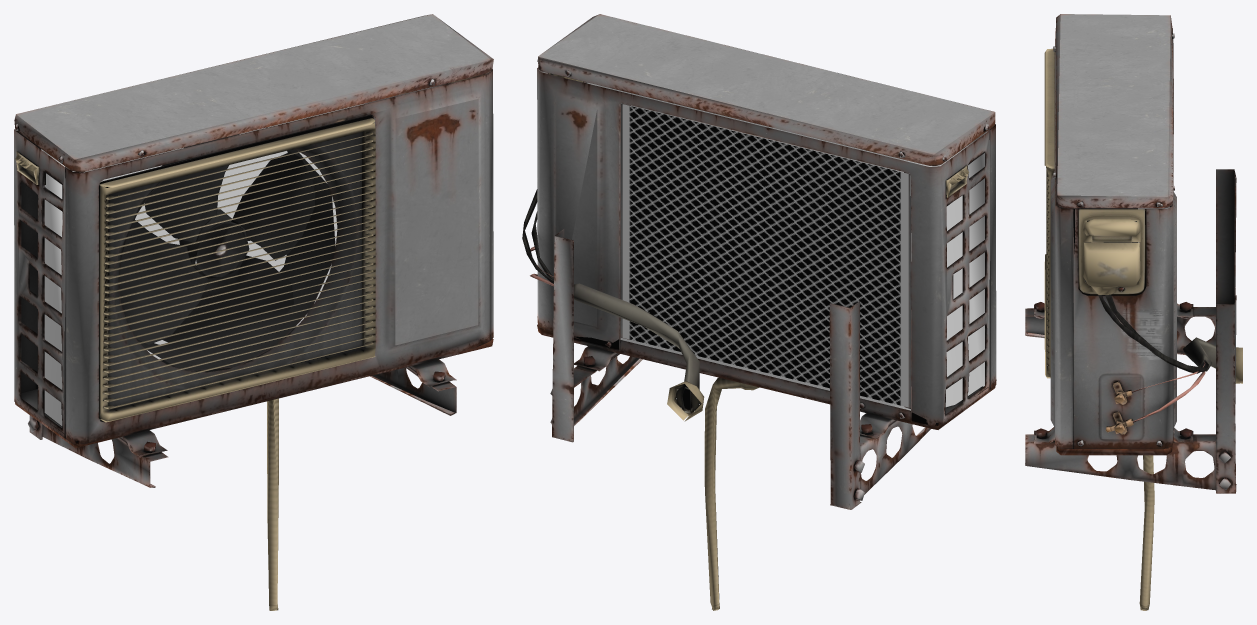
The model's file is aircon.glb.
3 renders of one model, left to right at view 1: azimuth 30°, elevation 25°; view 2: azimuth 150°, elevation 25°; view 3: azimuth 270°, elevation 25°, orthographic. The views are drawn at different scales.
Visible parts, largest first — view 1: exterior_aircon_unit_rusted; view 2: exterior_aircon_unit_rusted; view 3: exterior_aircon_unit_rusted.
Boxes of the visible parts, bbox=[...] form: exterior_aircon_unit_rusted: bbox=[14, 14, 493, 610]; exterior_aircon_unit_rusted: bbox=[522, 14, 996, 610]; exterior_aircon_unit_rusted: bbox=[1025, 14, 1242, 610].
Bounding box in the file's own units: 0.8001 × 0.9276 × 0.3748.
2 materials, 2 textured.
